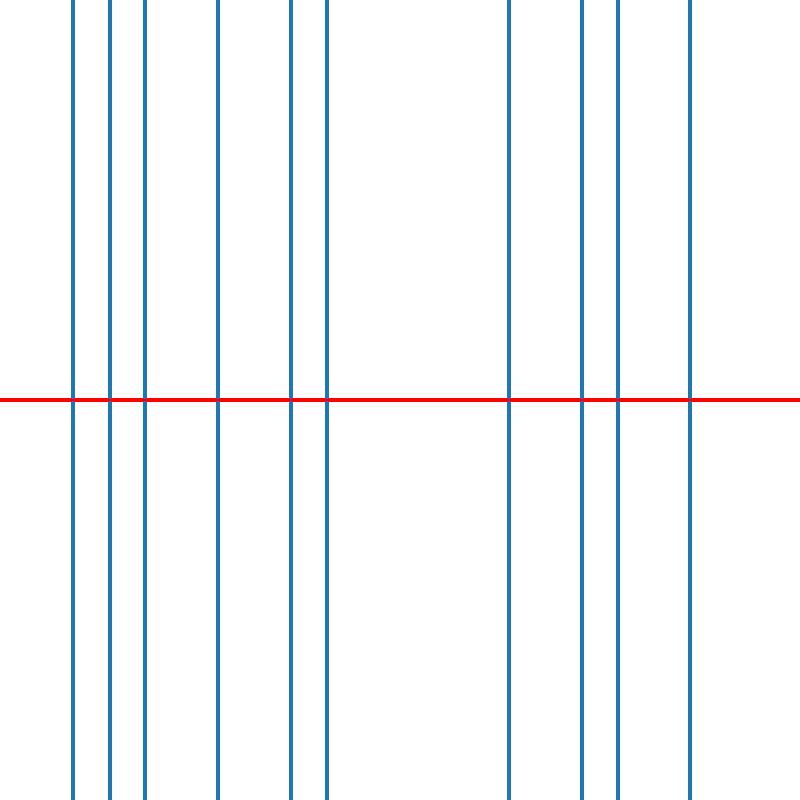root: (141, 396, 149, 404), (323, 396, 330, 404), (687, 396, 694, 404), (287, 396, 294, 404), (614, 396, 621, 404), (578, 396, 585, 404), (69, 396, 76, 404), (105, 396, 112, 404), (505, 396, 512, 404), (214, 396, 221, 404)
